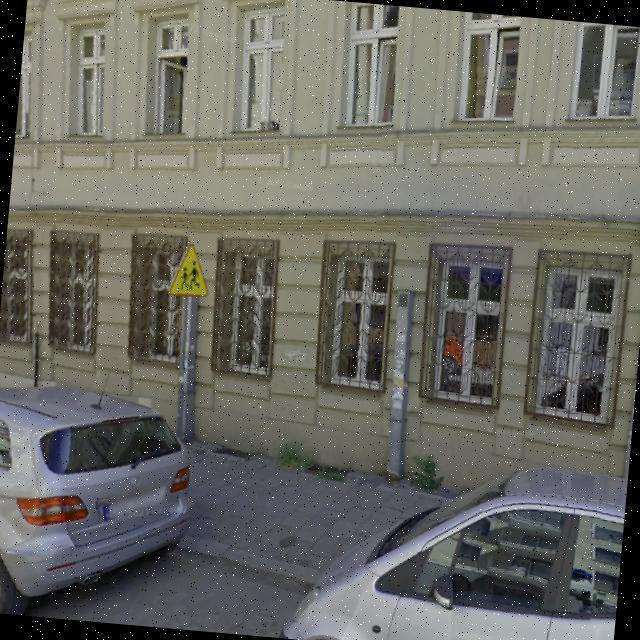Dzieci: (168, 239, 212, 300)
